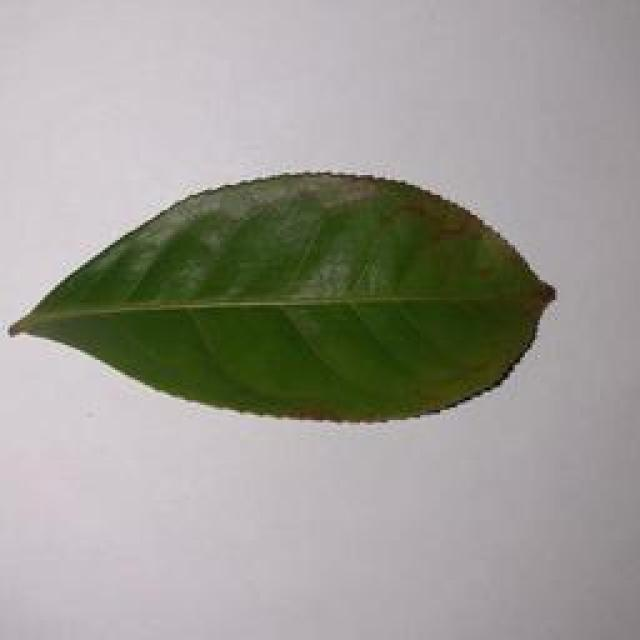Red Leaf Spot: (13, 174, 560, 433)
